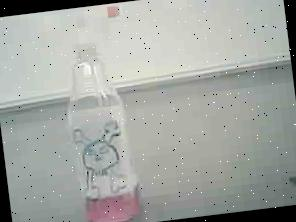hazard: (48, 2, 149, 222)
